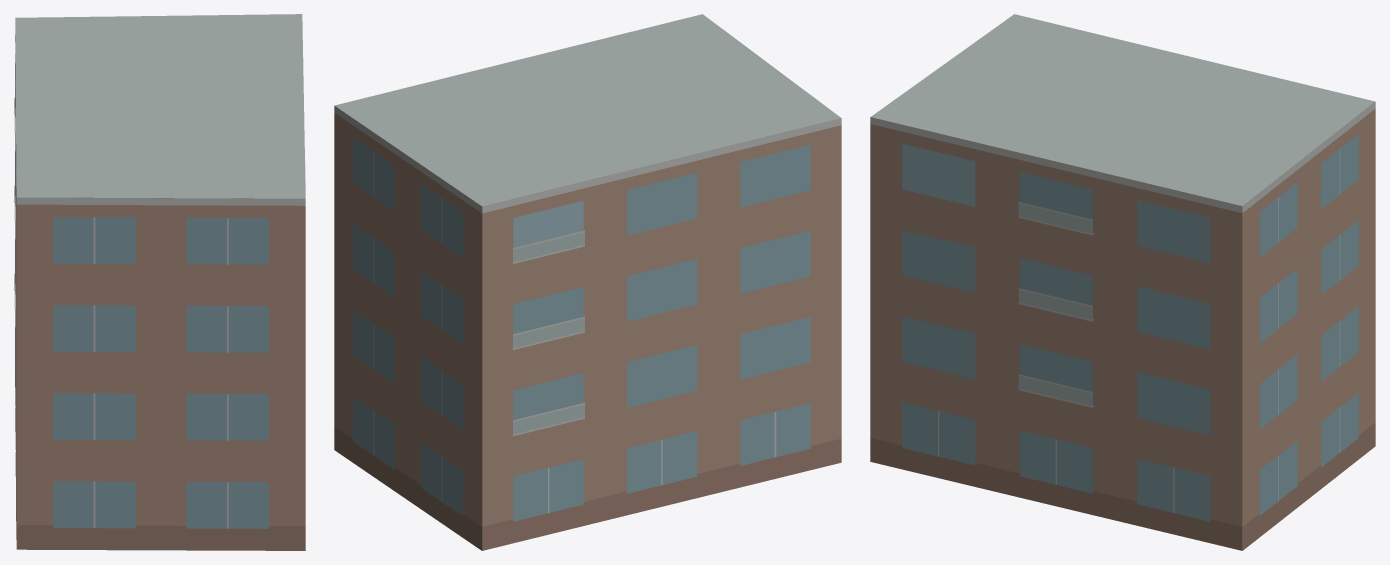
Rendered from survey-upis-32720972.glb.
The picture shows the model from 3 angles, left to right: view 1: azimuth 30°, elevation 25°; view 2: azimuth 150°, elevation 25°; view 3: azimuth 270°, elevation 25°; orthographic projection. The views are drawn at different scales.
Parts seen in each view (by area): view 1: survey-upis-32720972.tmp; view 2: survey-upis-32720972.tmp; view 3: survey-upis-32720972.tmp.
Boxes of the visible parts, x1,y1,x2,y2 form: survey-upis-32720972.tmp: (14,14,305,550); survey-upis-32720972.tmp: (334,14,841,550); survey-upis-32720972.tmp: (870,14,1375,550).
Bounding box in the file's own units: 14.34 × 11.99 × 15.93.
